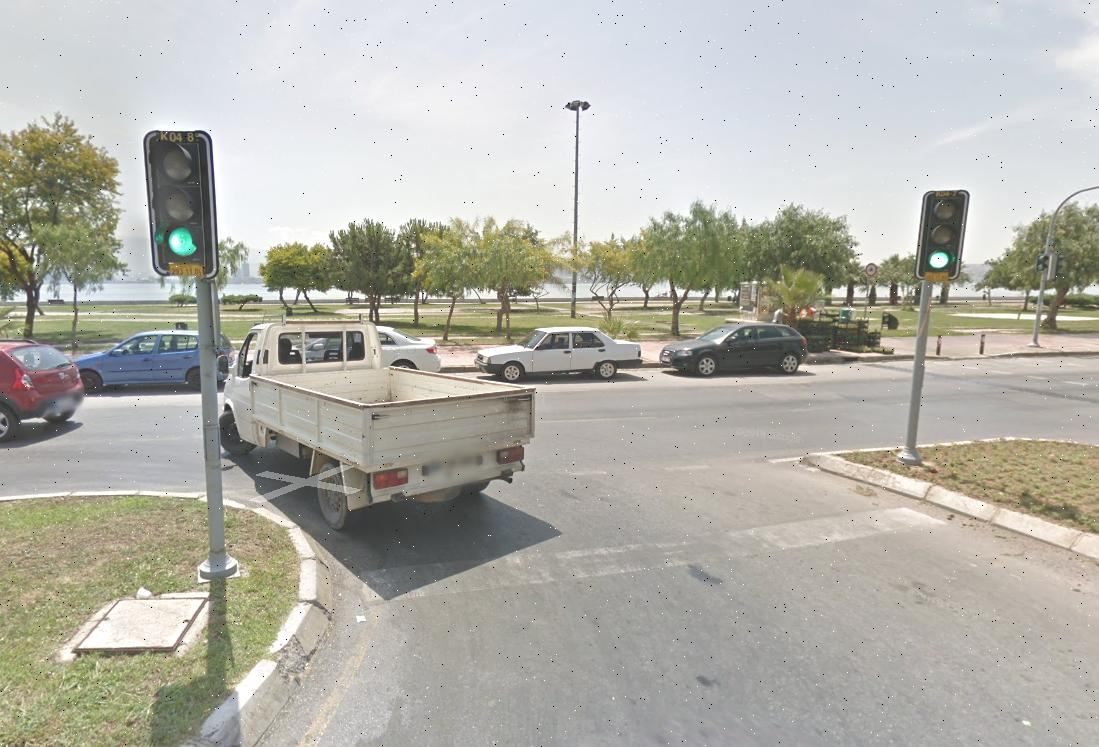greenlight: (146, 130, 205, 268), (925, 192, 960, 273)
